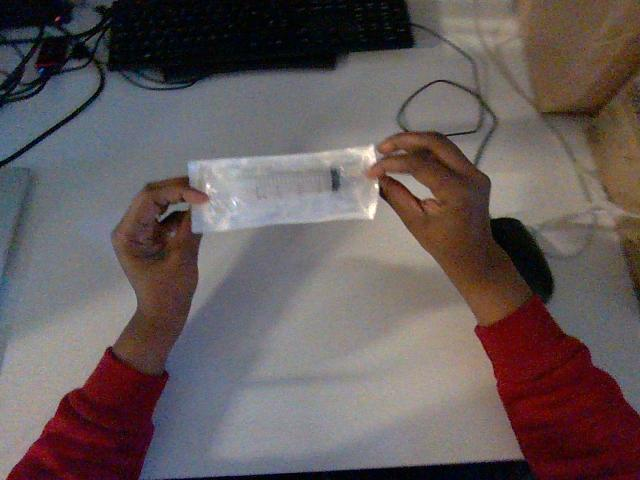syringe: (188, 145, 378, 232)
